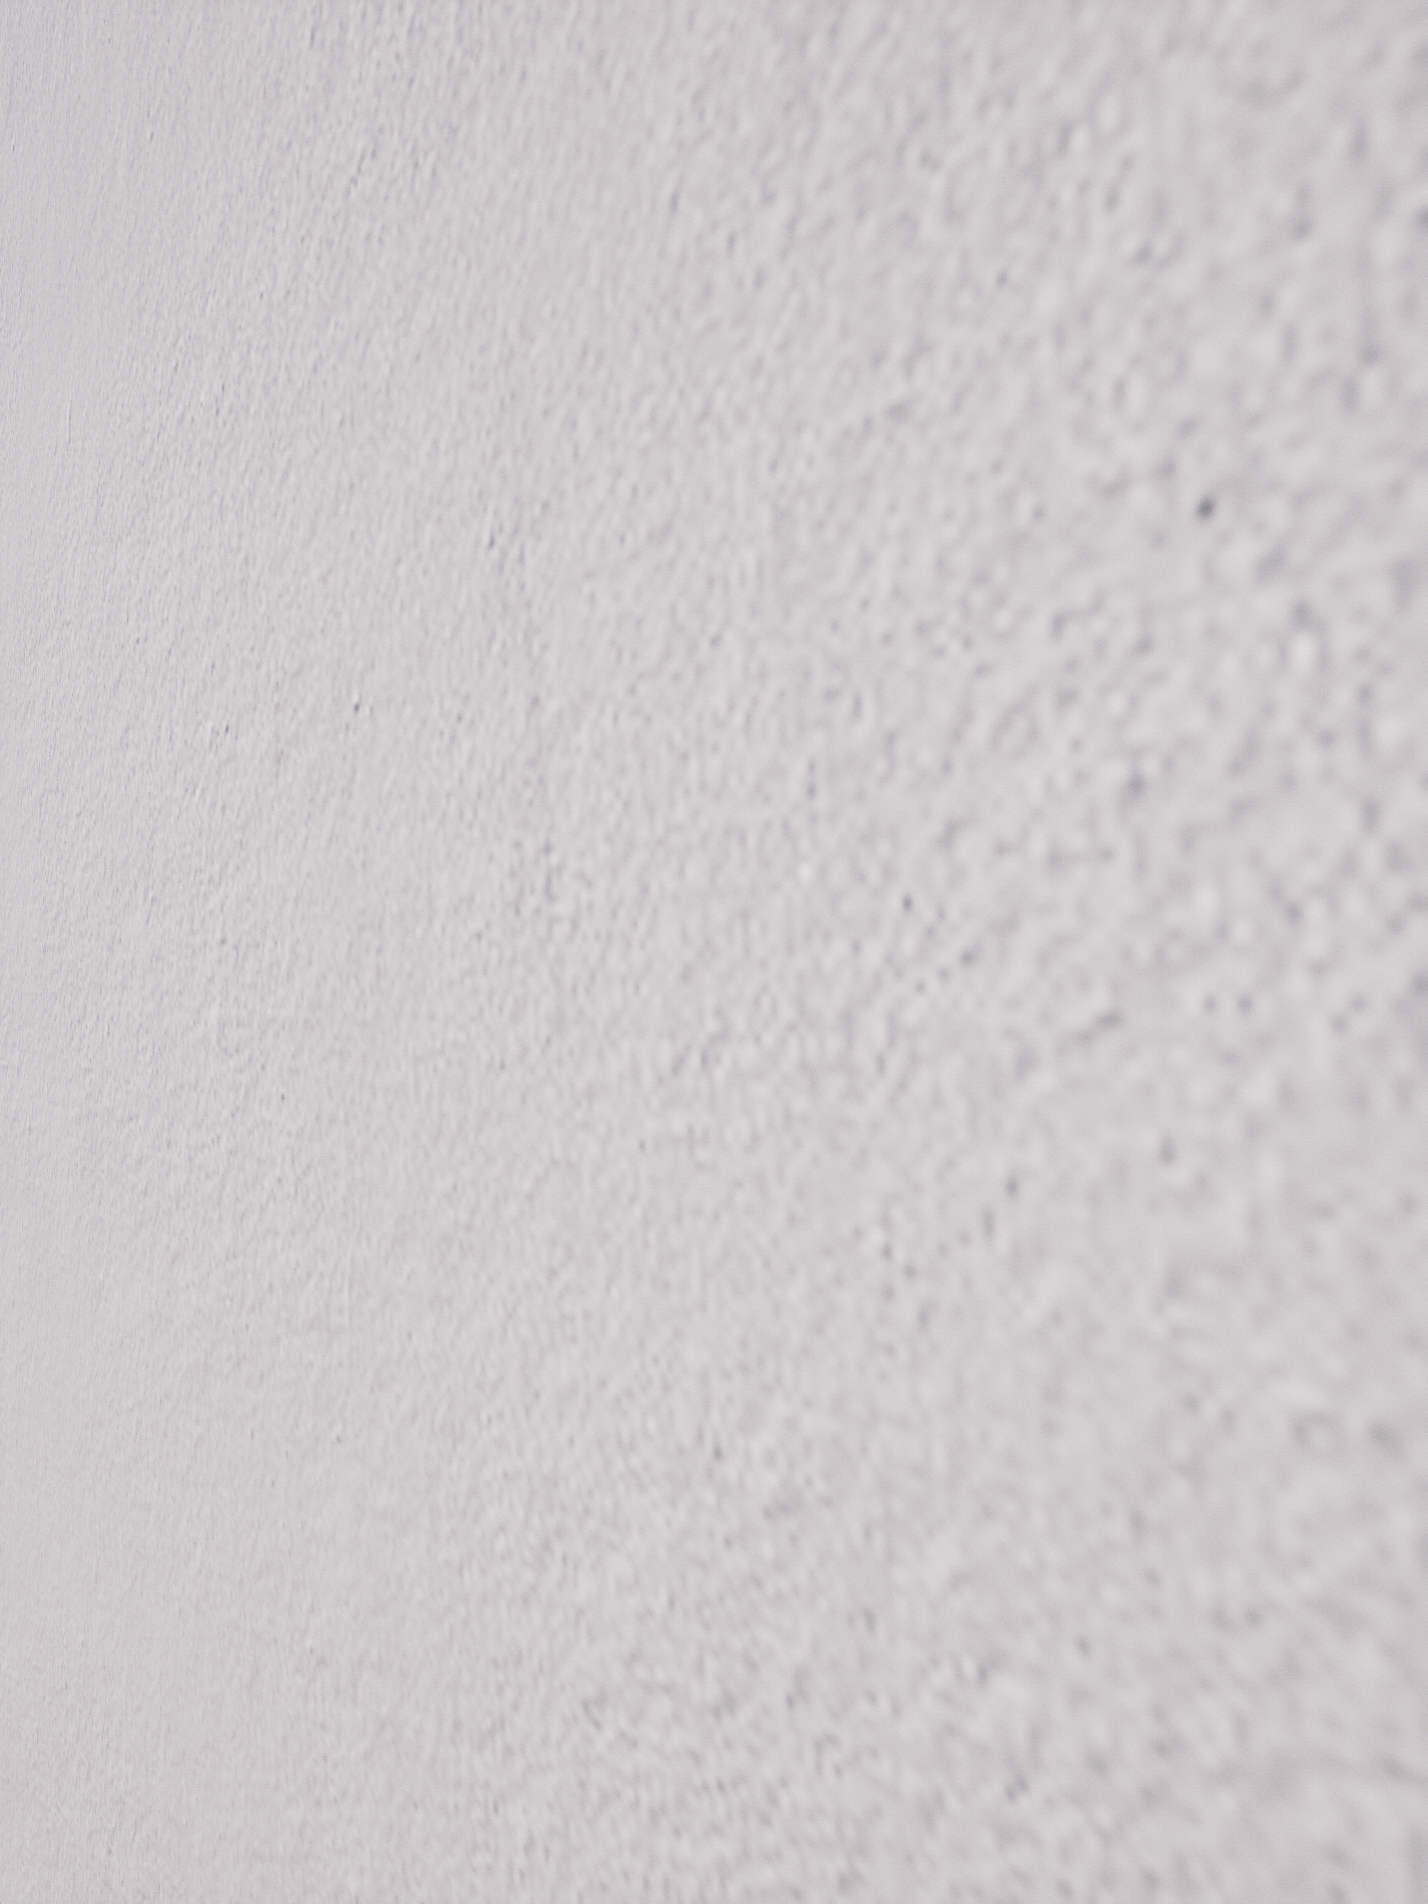cheerios: (505, 742, 703, 1075)
